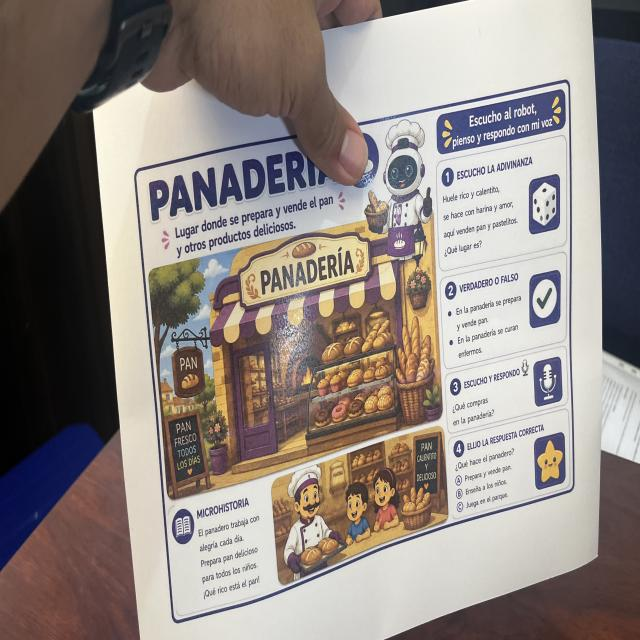panaderia: (130, 73, 579, 630)
